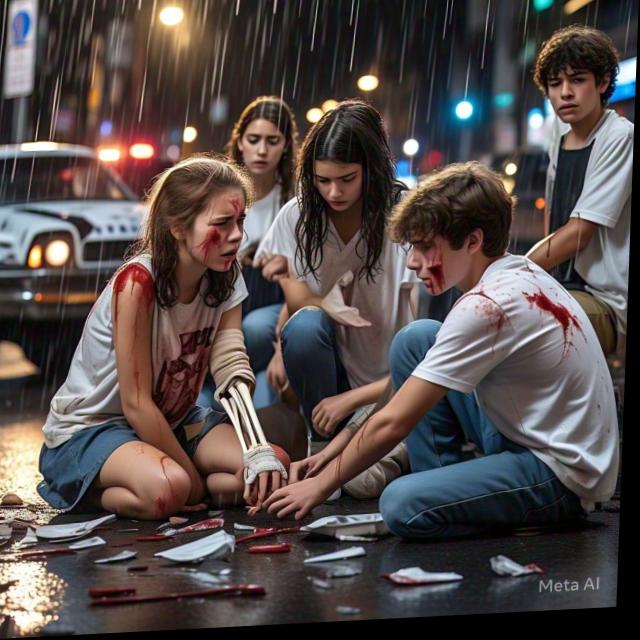injury: (422, 245, 449, 293), (192, 227, 218, 258)
